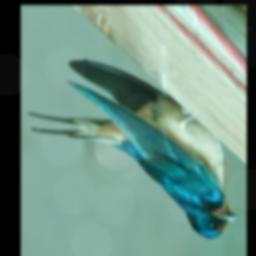Swallow: (26, 58, 237, 241)
